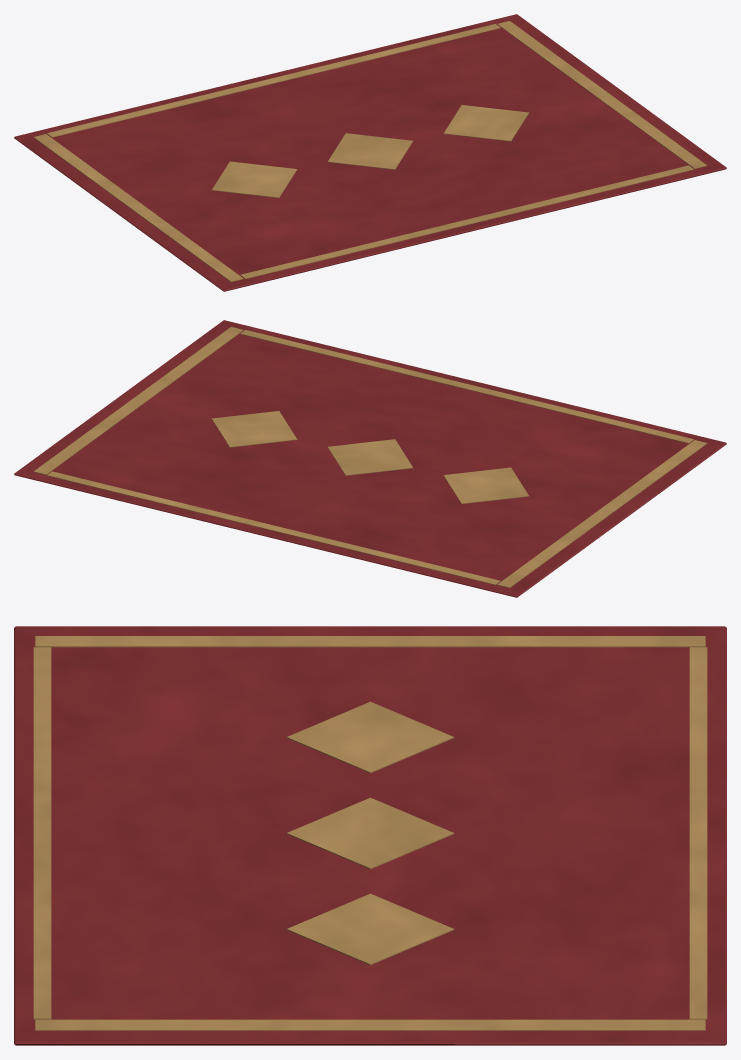
File: Furn_LibraryRug.fbx
The picture shows the model from 3 angles, top to bottom: view 1: azimuth 30°, elevation 25°; view 2: azimuth 150°, elevation 25°; view 3: azimuth 270°, elevation 25°; orthographic projection. The views are drawn at different scales.
Parts seen in each view (by area): view 1: Furn_LibraryRug_Mesh; view 2: Furn_LibraryRug_Mesh; view 3: Furn_LibraryRug_Mesh.
Boxes of the visible parts, left/top/right/bottom form: Furn_LibraryRug_Mesh: left=14, top=14, right=726, bottom=291; Furn_LibraryRug_Mesh: left=14, top=320, right=726, bottom=597; Furn_LibraryRug_Mesh: left=14, top=626, right=726, bottom=1045.
Bounding box in the file's own units: 3.6 × 0.02 × 2.6.
Materials: 2 (2 with a texture image).
